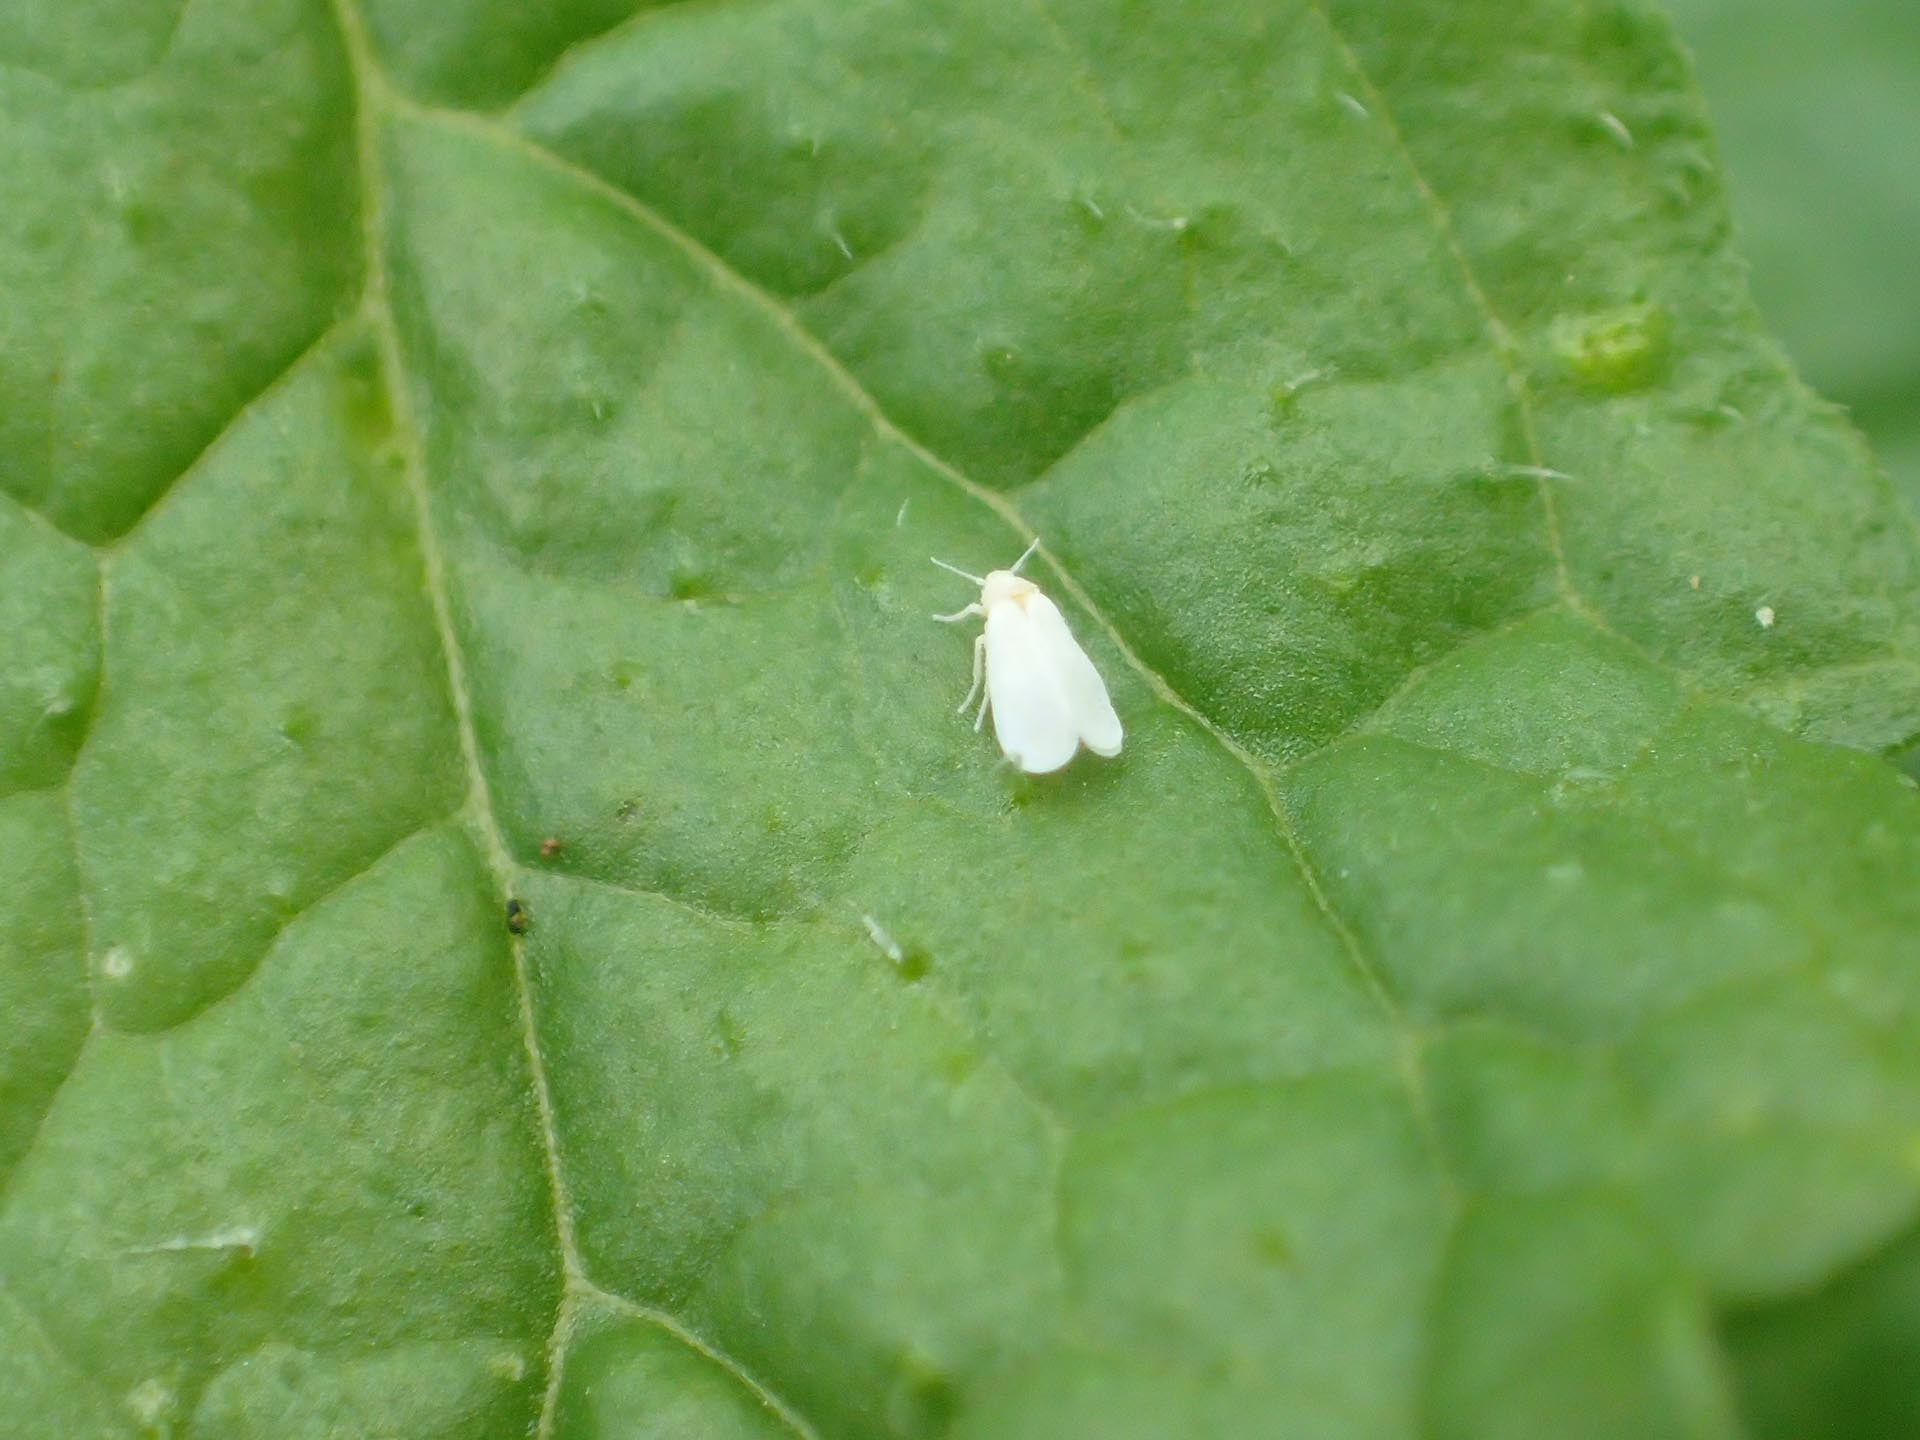Tobacco Whitefly: (904, 515, 1166, 848)
